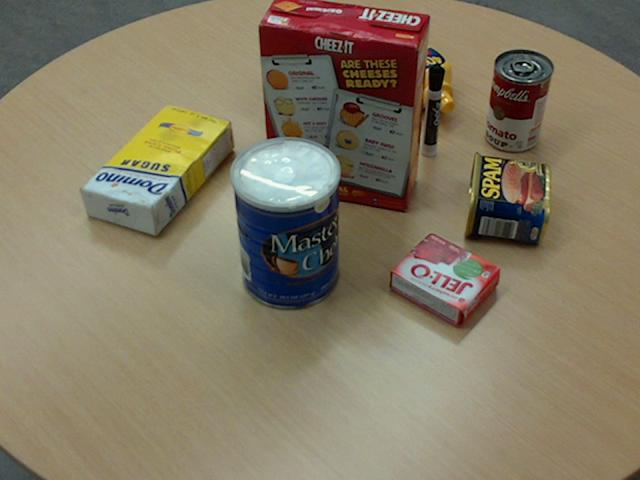cracker_box: (256, 0, 429, 209)
gelatin_box: (390, 232, 502, 326)
large_marker: (420, 64, 444, 155)
master_chef_can: (230, 136, 339, 310)
mug: (264, 35, 340, 126)
mustard_bottle: (342, 13, 454, 112)
potted_meat_can: (463, 150, 549, 242)
sugar_box: (79, 103, 232, 235)
tomato_soup_can: (485, 48, 553, 151)
tuna_fish_can: (270, 22, 333, 77)
